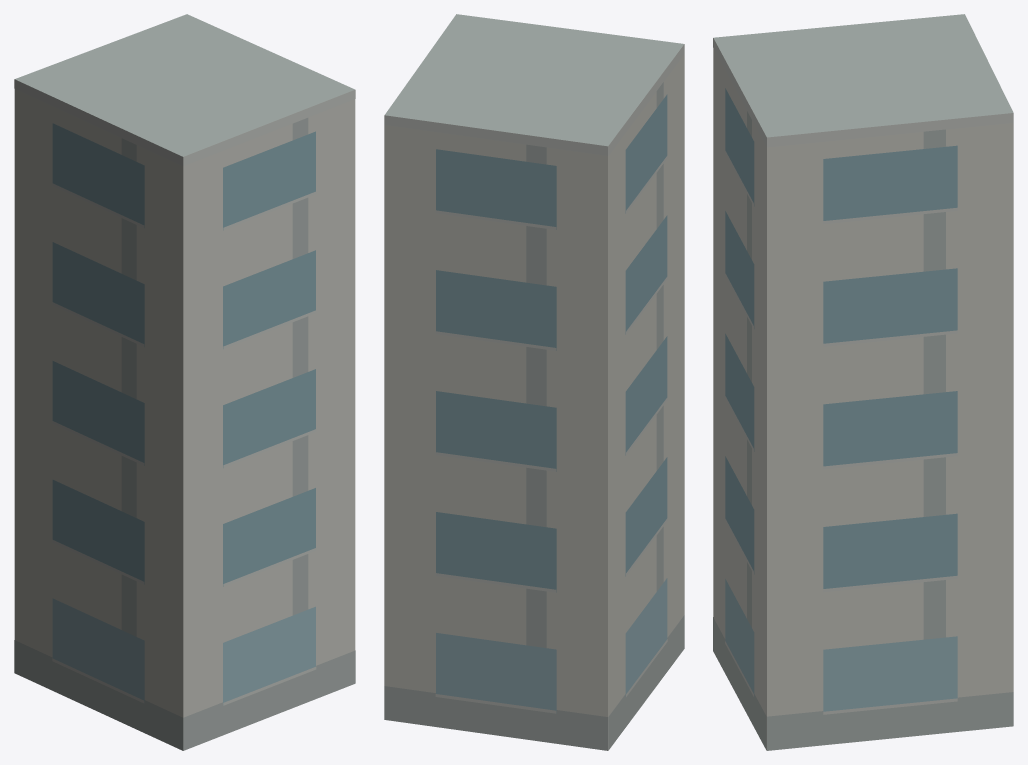
Rendered from survey-upis-32740765.glb.
3 renders of one model, left to right at view 1: azimuth 30°, elevation 25°; view 2: azimuth 150°, elevation 25°; view 3: azimuth 270°, elevation 25°, orthographic. The views are drawn at different scales.
Parts seen in each view (by area): view 1: survey-upis-32740765.tmp; view 2: survey-upis-32740765.tmp; view 3: survey-upis-32740765.tmp.
Part boxes in pixels (x1,y1,x2,y2): survey-upis-32740765.tmp: [14, 14, 355, 750]; survey-upis-32740765.tmp: [384, 14, 684, 750]; survey-upis-32740765.tmp: [713, 14, 1013, 750].
Bounding box in the file's own units: 6.59 × 15.25 × 6.78.
